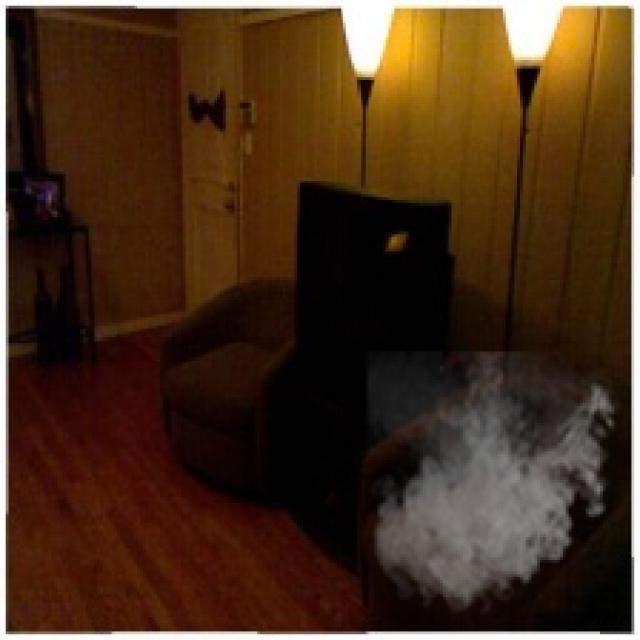smoke: (366, 351, 623, 620)
